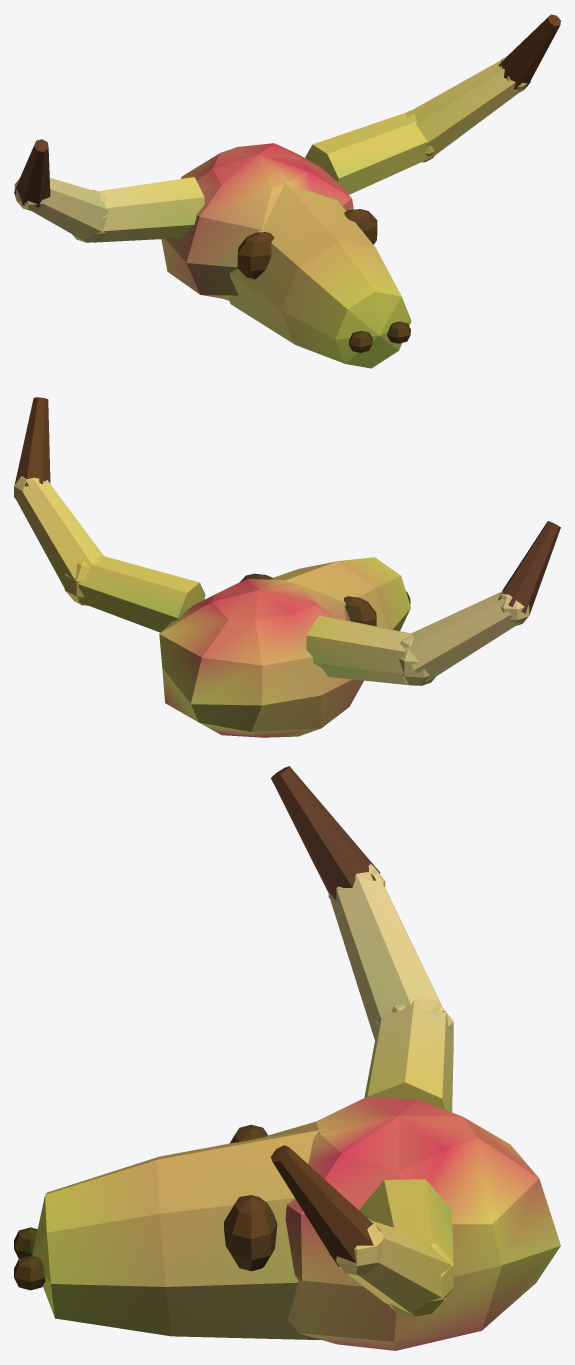
Rendered from Skull_Bull_01.fbx.
3 views of the same model, one above another, from view 1: azimuth 30°, elevation 25°; view 2: azimuth 150°, elevation 25°; view 3: azimuth 270°, elevation 25° (orthographic). The views are drawn at different scales.
Parts seen in each view (by area): view 1: Skull_Bull_01; view 2: Skull_Bull_01; view 3: Skull_Bull_01.
Boxes of the visible parts, box(x1,y1,x2,y2) form: Skull_Bull_01: box(14, 14, 560, 368); Skull_Bull_01: box(14, 397, 560, 737); Skull_Bull_01: box(14, 766, 560, 1350).
Size of the model in its own units: 0.9628 by 0.4364 by 0.5699.
